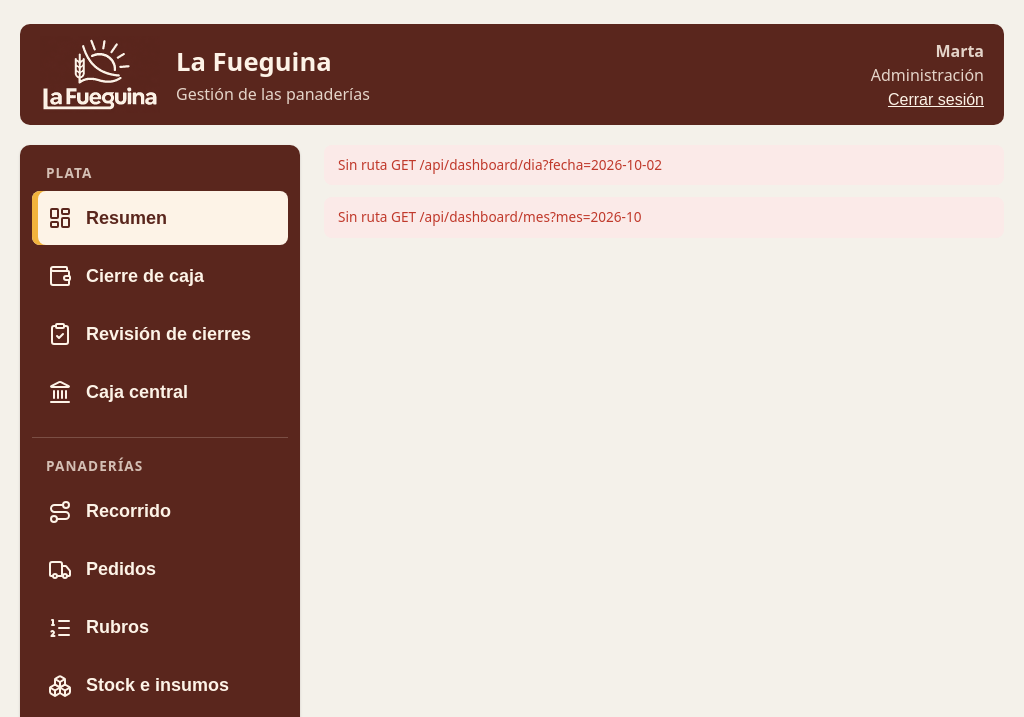
caja central: hoy › si no puede cargar la caja central lo dice
Click the button "Caja central".
click(160, 392)  # box [32,365,288,419]
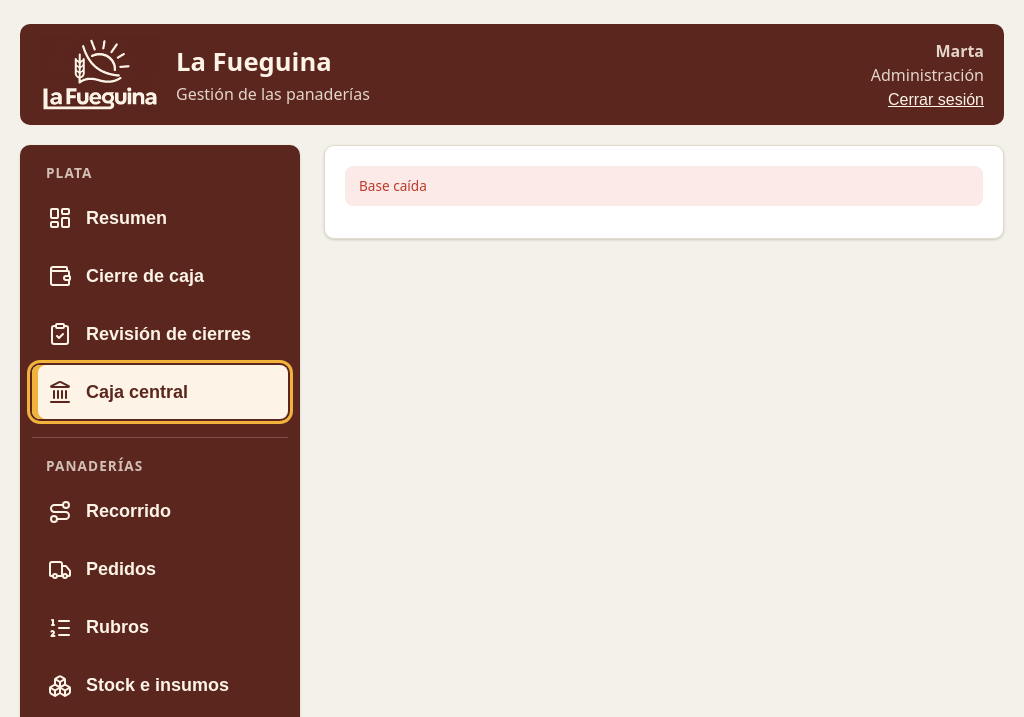
Result: the message reads "Base caída" at [359,176,427,195]
